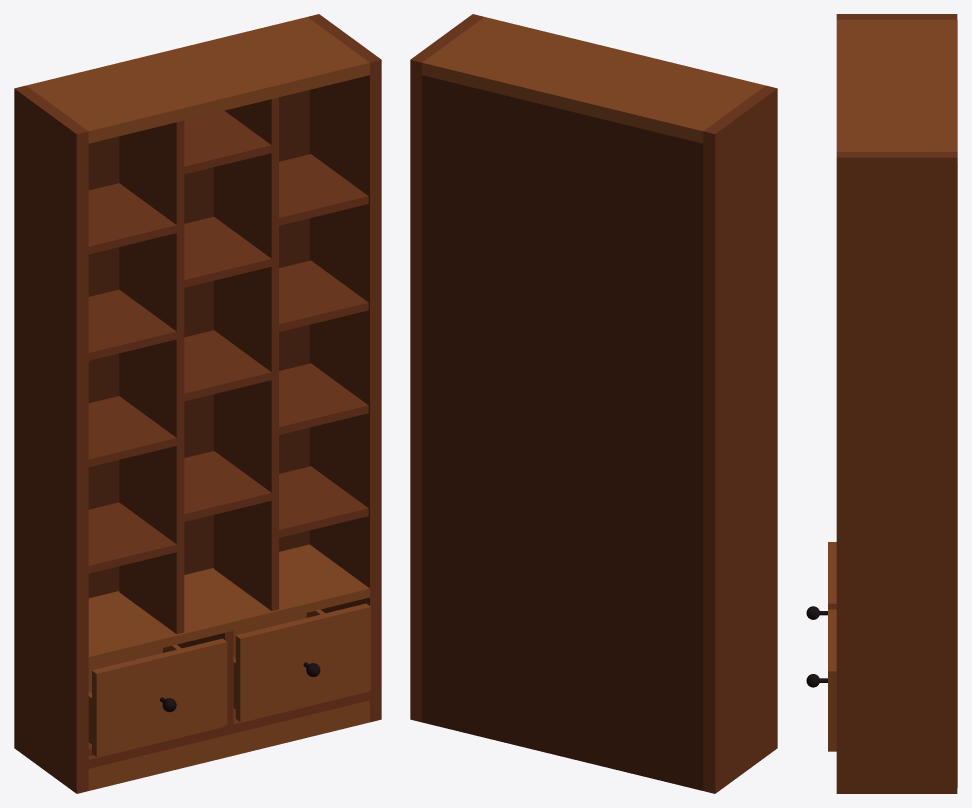
3 renders of one model, left to right at view 1: azimuth 30°, elevation 25°; view 2: azimuth 150°, elevation 25°; view 3: azimuth 270°, elevation 25°, orthographic. The views are drawn at different scales.
Parts seen in each view (by area): view 1: /Asset/Links/bookshelf_carcass/Visuals/left_side/Geom, /Asset/Links/bookshelf_carcass/Visuals/right_side/Geom, /Asset/Links/bookshelf_carcass/Visuals/divider_left/Geom, /Asset/Links/bookshelf_carcass/Visuals/divider_right/Geom, /Asset/Links/bookshelf_carcass/Visuals/top_cap/Geom, /Asset/Links/bookshelf_carcass/Visuals/back_panel/Geom, /Asset/Links/bookshelf_carcass/Visuals/cubby_floor/Geom, /Asset/Links/drawer_2/Visuals/drawer_front/Geom, /Asset/Links/drawer_1/Visuals/drawer_front/Geom, /Asset/Links/bookshelf_carcass/Visuals/front_kick/Geom, /Asset/Links/bookshelf_carcass/Visuals/right_shelf_1/Geom, /Asset/Links/bookshelf_carcass/Visuals/right_shelf_3/Geom (+12 smaller); view 2: /Asset/Links/bookshelf_carcass/Visuals/back_panel/Geom, /Asset/Links/bookshelf_carcass/Visuals/left_side/Geom, /Asset/Links/bookshelf_carcass/Visuals/top_cap/Geom, /Asset/Links/bookshelf_carcass/Visuals/right_side/Geom; view 3: /Asset/Links/bookshelf_carcass/Visuals/right_side/Geom, /Asset/Links/bookshelf_carcass/Visuals/top_cap/Geom, /Asset/Links/drawer_2/Visuals/drawer_front/Geom, /Asset/Links/bookshelf_carcass/Visuals/left_side/Geom, /Asset/Links/bookshelf_carcass/Visuals/back_panel/Geom, /Asset/Links/drawer_1/Visuals/drawer_front/Geom.
Boxes of the visible parts, x1,y1,x2,y2 form: /Asset/Links/bookshelf_carcass/Visuals/left_side/Geom: (14,85,88,793); /Asset/Links/bookshelf_carcass/Visuals/right_side/Geom: (308,14,381,722); /Asset/Links/bookshelf_carcass/Visuals/divider_left/Geom: (119,120,184,634); /Asset/Links/bookshelf_carcass/Visuals/divider_right/Geom: (214,97,278,610); /Asset/Links/bookshelf_carcass/Visuals/top_cap/Geom: (26,17,369,143); /Asset/Links/bookshelf_carcass/Visuals/back_panel/Geom: (88,90,309,598); /Asset/Links/bookshelf_carcass/Visuals/cubby_floor/Geom: (88,544,369,665); /Asset/Links/drawer_2/Visuals/drawer_front/Geom: (235,603,370,721); /Asset/Links/drawer_1/Visuals/drawer_front/Geom: (92,638,227,756); /Asset/Links/bookshelf_carcass/Visuals/front_kick/Geom: (88,700,369,790); /Asset/Links/bookshelf_carcass/Visuals/right_shelf_1/Geom: (279,466,368,537); /Asset/Links/bookshelf_carcass/Visuals/right_shelf_3/Geom: (279,260,368,331); /Asset/Links/bookshelf_carcass/Visuals/back_panel/Geom: (422,75,703,790); /Asset/Links/bookshelf_carcass/Visuals/left_side/Geom: (703,85,777,793); /Asset/Links/bookshelf_carcass/Visuals/top_cap/Geom: (422,17,765,143); /Asset/Links/bookshelf_carcass/Visuals/right_side/Geom: (410,14,483,722); /Asset/Links/bookshelf_carcass/Visuals/right_side/Geom: (836,152,957,793); /Asset/Links/bookshelf_carcass/Visuals/top_cap/Geom: (836,19,957,163); /Asset/Links/drawer_2/Visuals/drawer_front/Geom: (828,609,836,751); /Asset/Links/bookshelf_carcass/Visuals/left_side/Geom: (836,14,957,19); /Asset/Links/bookshelf_carcass/Visuals/back_panel/Geom: (957,164,957,787); /Asset/Links/drawer_1/Visuals/drawer_front/Geom: (828,542,836,609).
Size of the model in its own units: 0.9 by 1.86 by 0.4.
